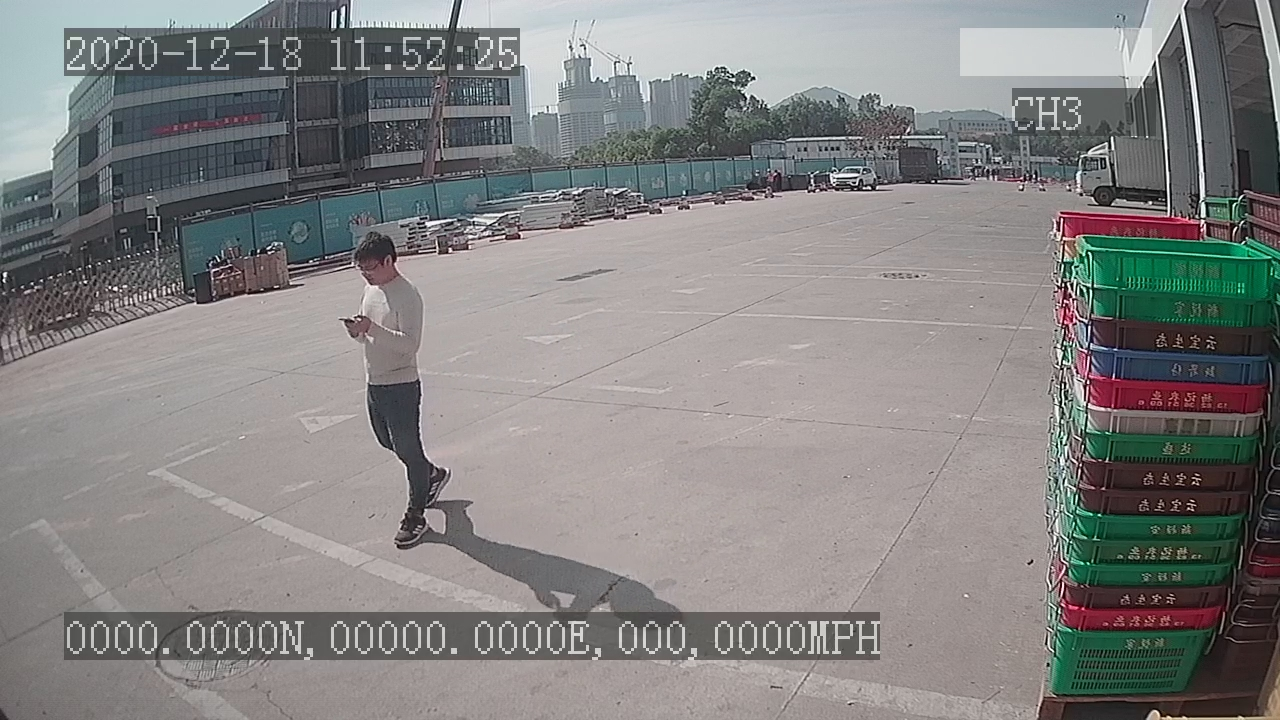person: (338, 227, 452, 558)
